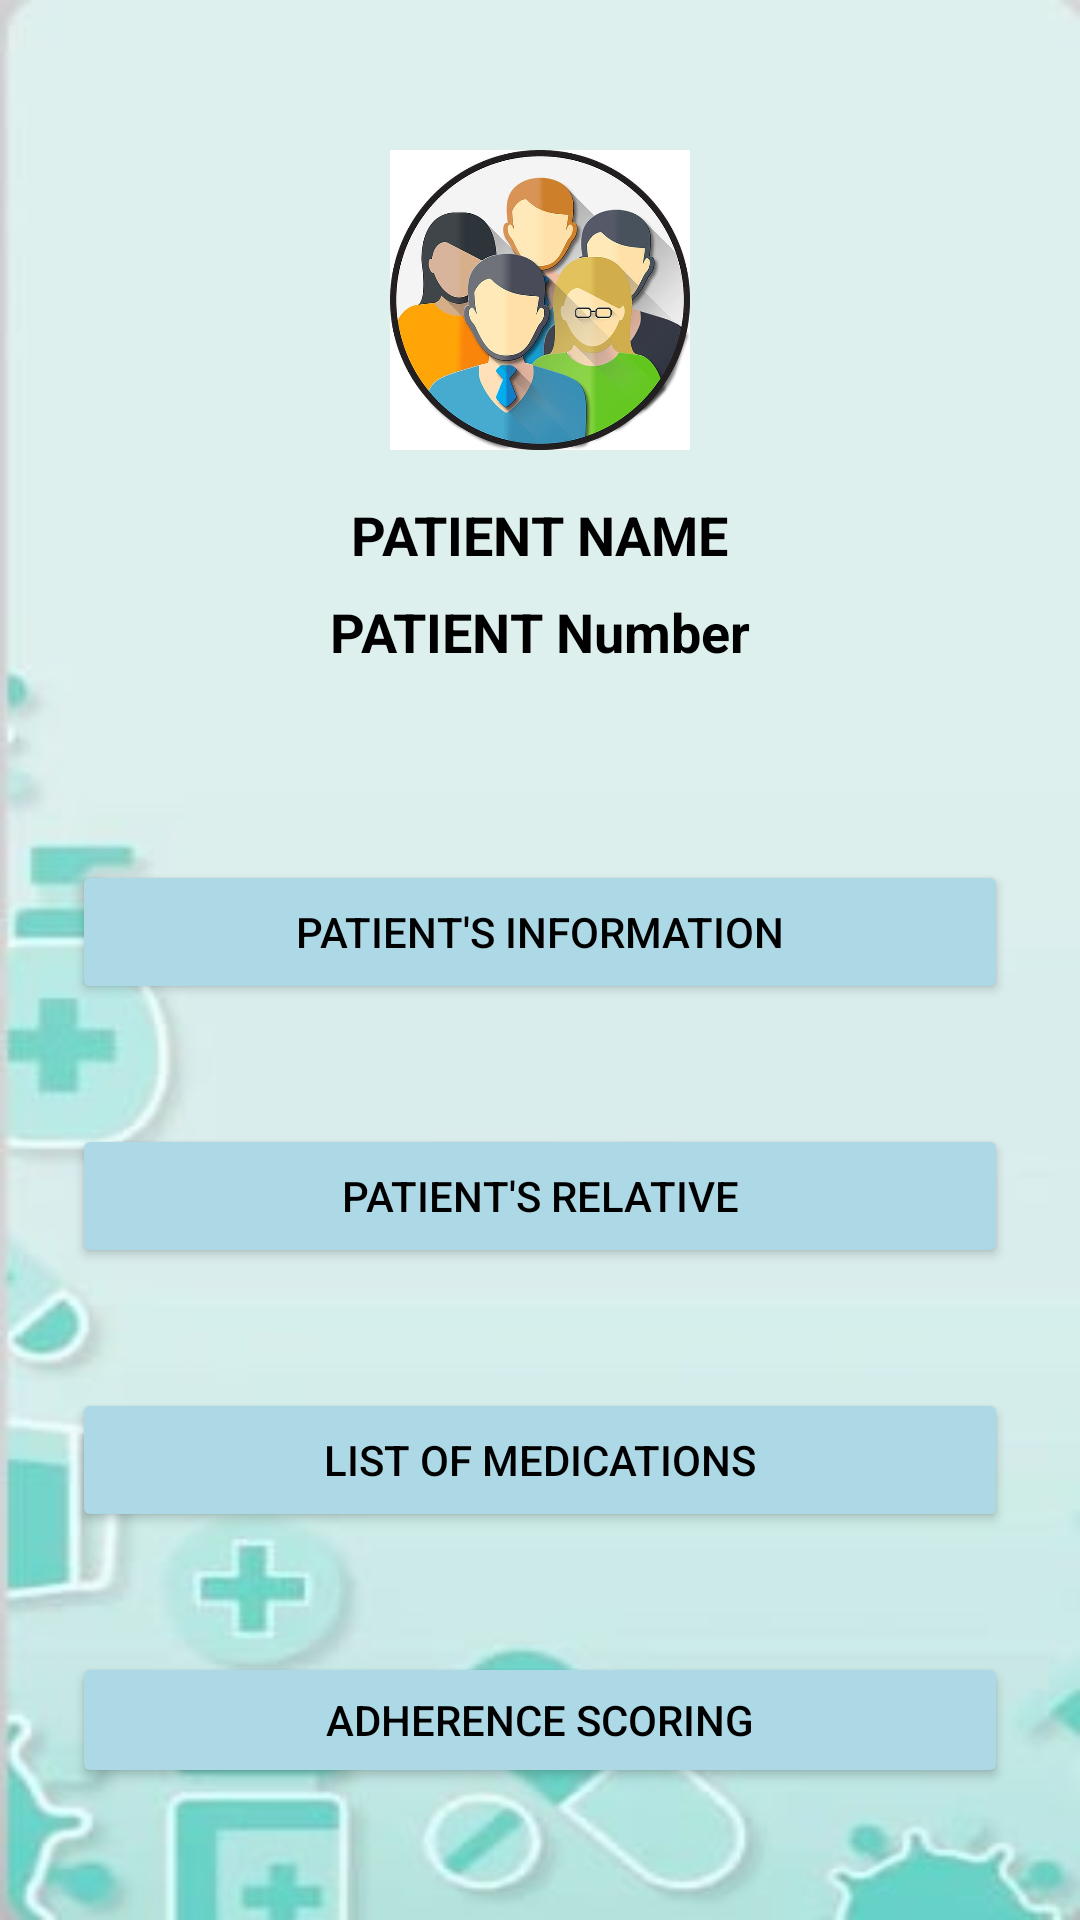

Icon bounding boxes for this 1080x1920 phone screenshot, format (x1, y1, x2, y2):
Profile Picture: (390, 150, 690, 450)
